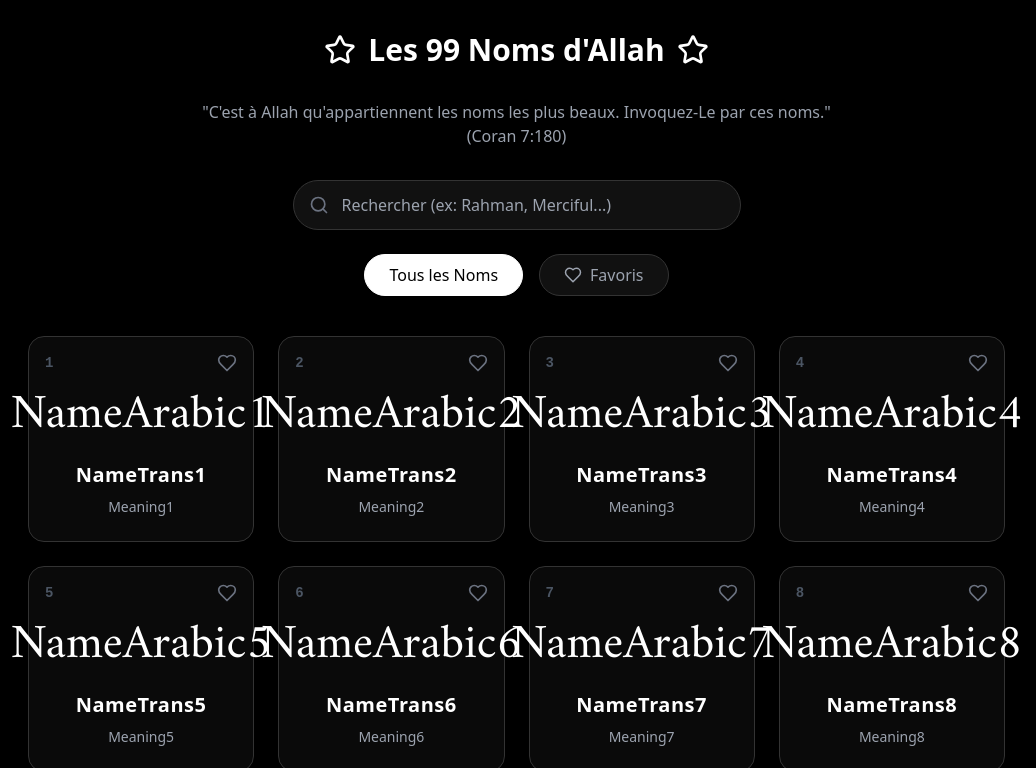
Scenario: Names component › search filtering works (typing in search box filters displayed names)
Expected: the heading "NameTrans1" is shown, x1=76 y1=461 x2=206 y2=489
Type "NameTrans25" into the field with placeholder "Rechercher (ex: Rahman, Merciful...)" at point(516, 205), box x1=292 y1=180 x2=740 y2=230
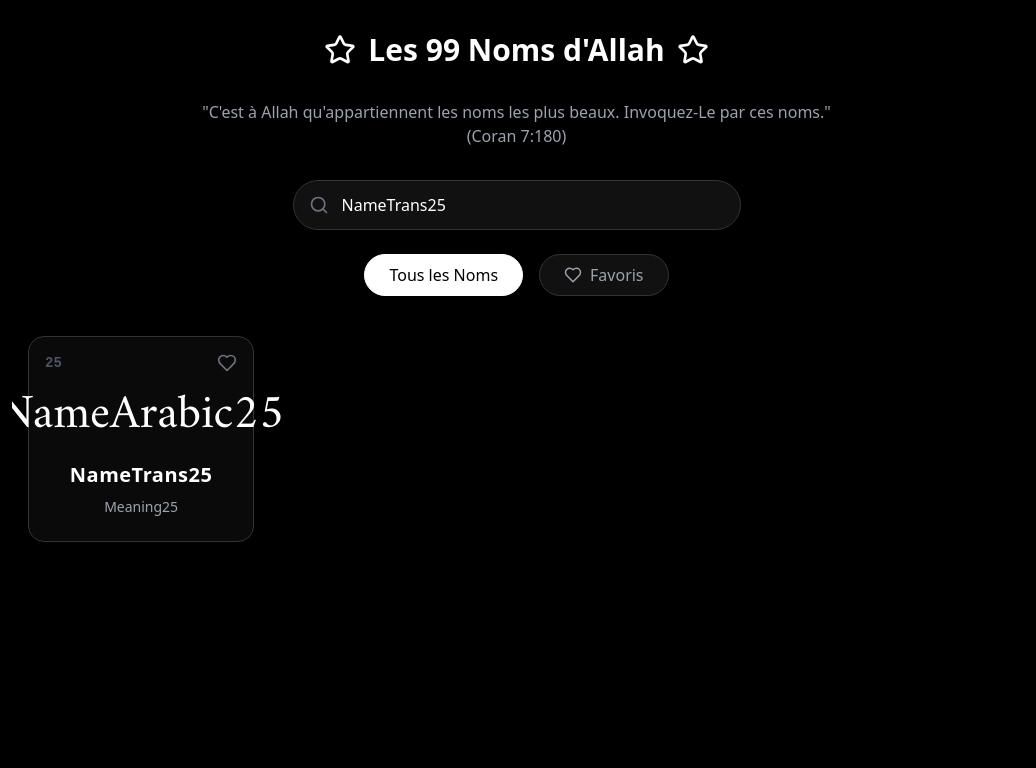
Now the heading "NameTrans25" is shown, box x1=70 y1=461 x2=212 y2=489
Now the heading "NameTrans1" is gone
